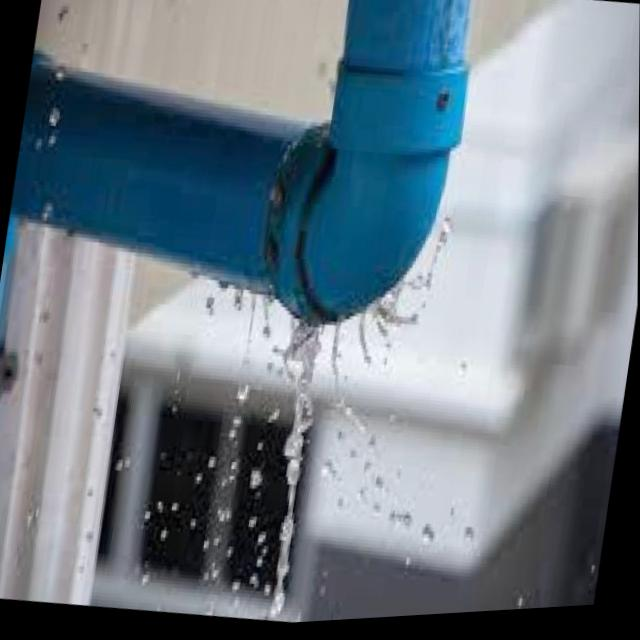leak: (123, 194, 524, 614)
